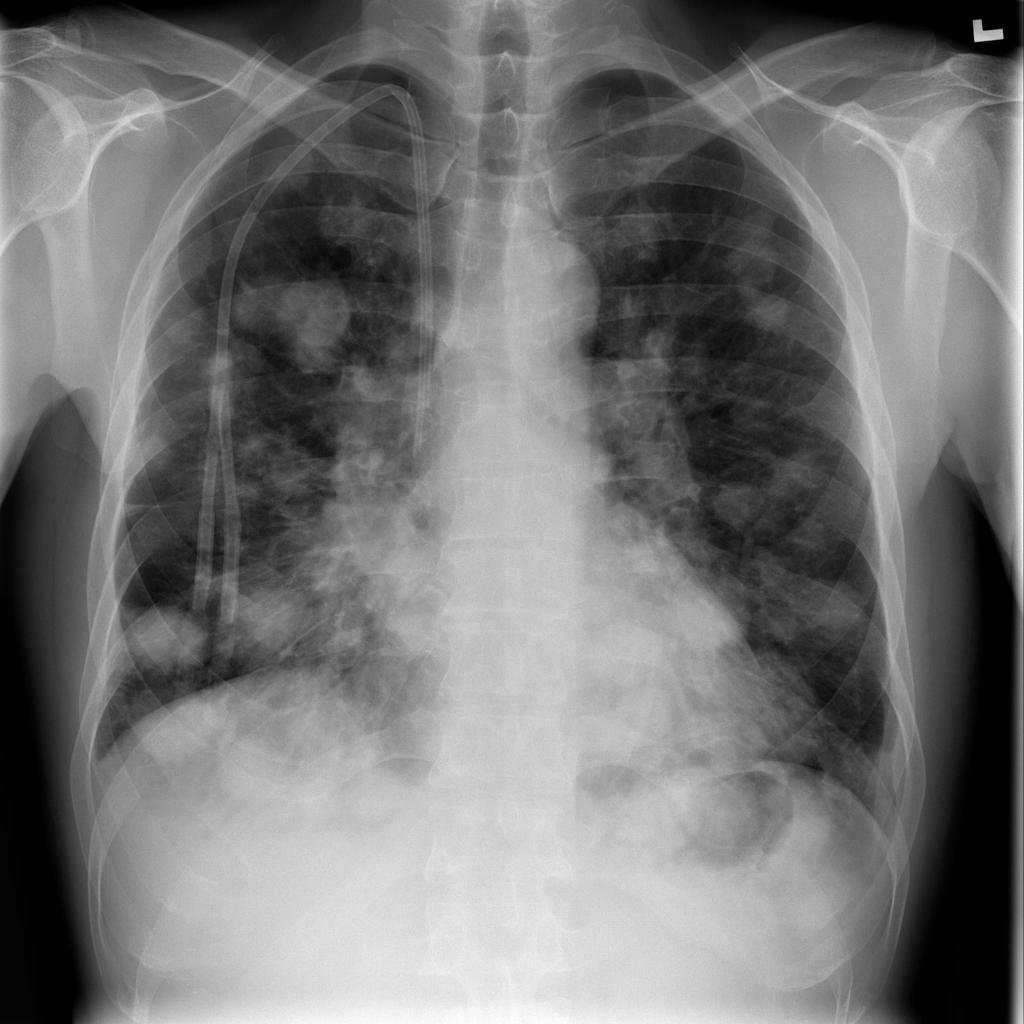nodule: (248, 258, 369, 380), (113, 668, 241, 776), (99, 590, 222, 690), (215, 566, 323, 672), (660, 573, 754, 651), (303, 172, 389, 256), (215, 729, 297, 810), (245, 129, 326, 207), (589, 612, 670, 690), (336, 759, 418, 836), (762, 432, 844, 505), (703, 468, 781, 542), (601, 686, 680, 757), (732, 270, 806, 342), (118, 418, 185, 490)
